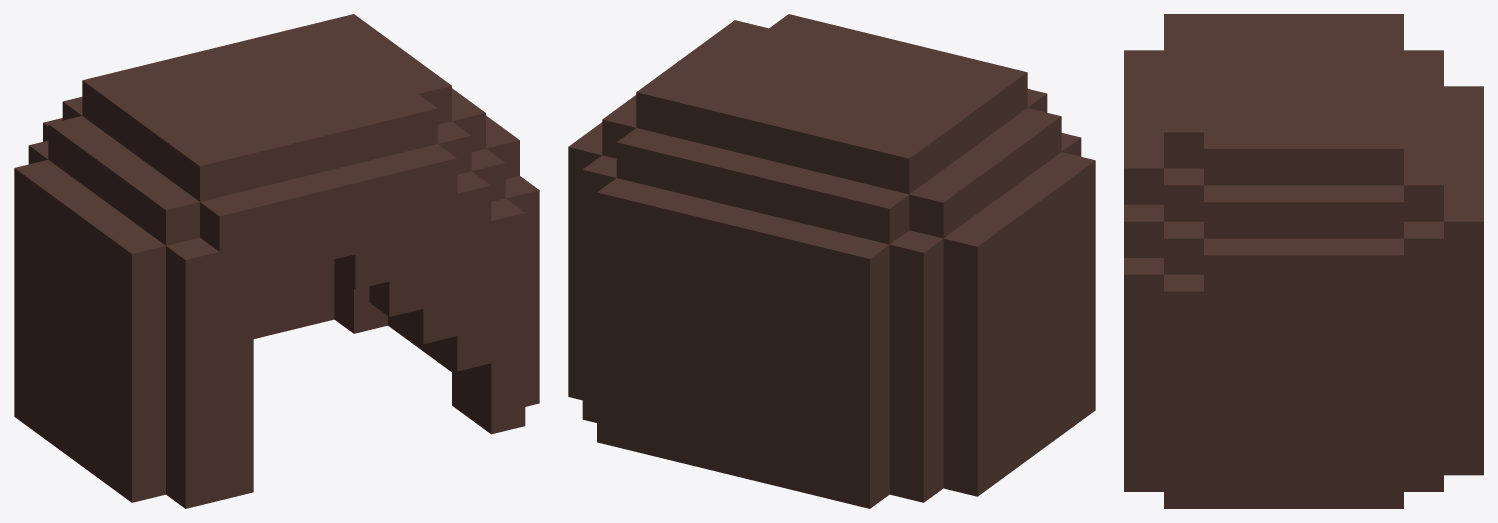
The model's file is hair_02.gltf.
The picture shows the model from 3 angles, left to right: view 1: azimuth 30°, elevation 25°; view 2: azimuth 150°, elevation 25°; view 3: azimuth 270°, elevation 25°; orthographic projection.
Visible parts, largest first — view 1: Untitled-Mesh; view 2: Untitled-Mesh; view 3: Untitled-Mesh.
Boxes of the visible parts, x1=… form: Untitled-Mesh: x1=14, y1=14, x2=539, y2=508; Untitled-Mesh: x1=568, y1=14, x2=1095, y2=508; Untitled-Mesh: x1=1124, y1=14, x2=1483, y2=508.
Size of the model in its own units: 12 by 9 by 9.
Materials: 1 (1 with a texture image).
